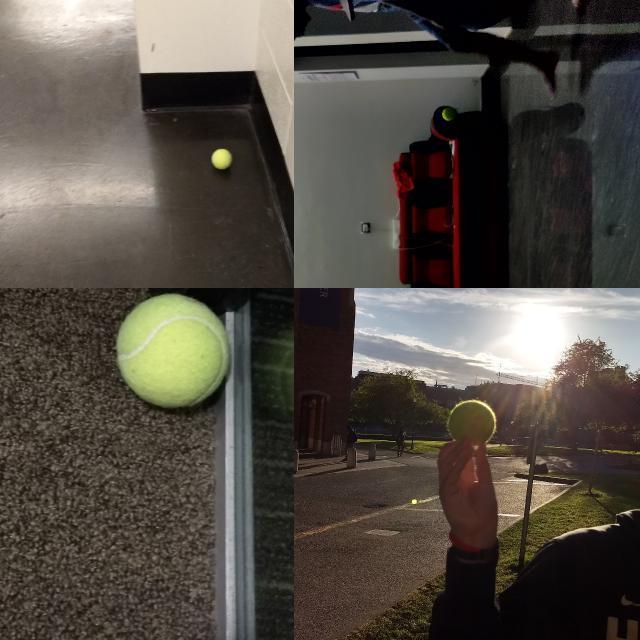tennis-ball: (114, 292, 230, 410), (446, 399, 496, 447), (210, 148, 233, 170), (441, 108, 455, 120)
